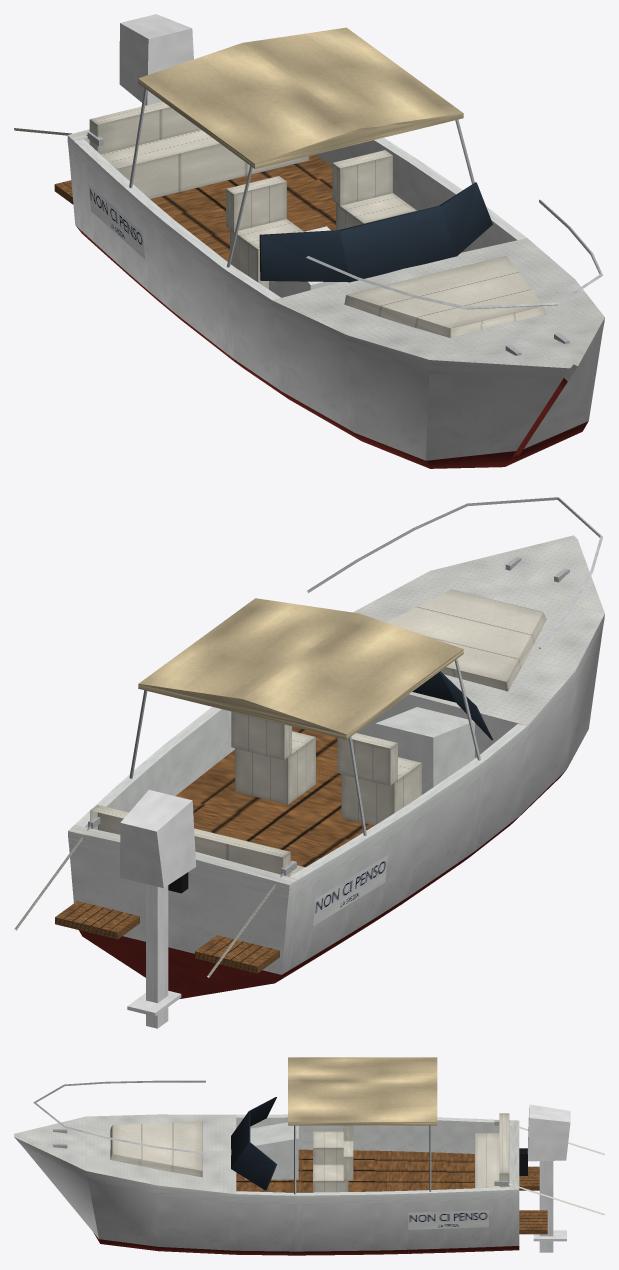
Rendered from SM_Morin_Barca_Motoscafo_TelaBeige_LOD1.fbx.
3 renders of one model, top to bottom at view 1: azimuth 30°, elevation 25°; view 2: azimuth 150°, elevation 25°; view 3: azimuth 270°, elevation 25°, orthographic. The views are drawn at different scales.
Parts seen in each view (by area): view 1: SM_Morin_Barca_Motoscafo_TelaBeige_LOD1; view 2: SM_Morin_Barca_Motoscafo_TelaBeige_LOD1; view 3: SM_Morin_Barca_Motoscafo_TelaBeige_LOD1.
Part boxes in pixels (left/top/right/bottom): SM_Morin_Barca_Motoscafo_TelaBeige_LOD1: left=14, top=14, right=604, bottom=468; SM_Morin_Barca_Motoscafo_TelaBeige_LOD1: left=14, top=497, right=604, bottom=1028; SM_Morin_Barca_Motoscafo_TelaBeige_LOD1: left=14, top=1057, right=604, bottom=1255.
Bounding box in the file's own units: 270 × 830 × 259.
Materials: 1 (1 with a texture image).
